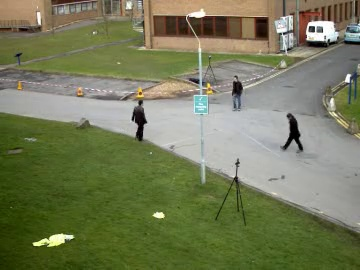person: (280, 112, 302, 152), (131, 98, 148, 141), (230, 74, 246, 108)
